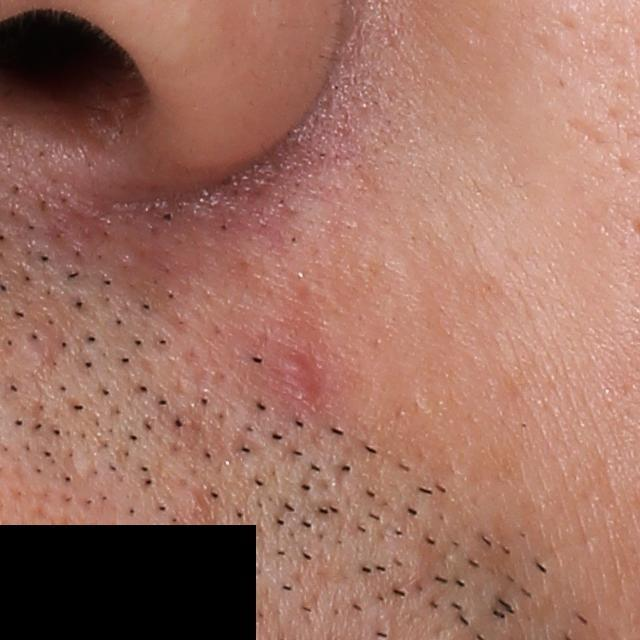atrophic_scar: (557, 114, 611, 149)
papule: (280, 349, 319, 401)
